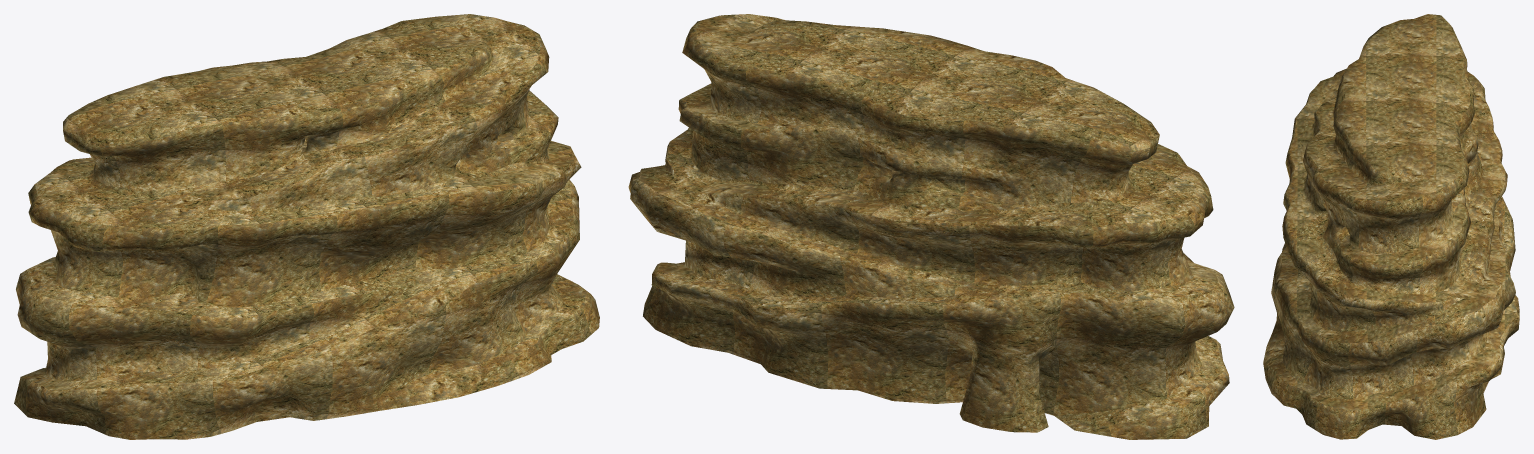
Rendered from Rock.FBX.
3 renders of one model, left to right at view 1: azimuth 30°, elevation 25°; view 2: azimuth 150°, elevation 25°; view 3: azimuth 270°, elevation 25°, orthographic. The views are drawn at different scales.
Parts seen in each view (by area): view 1: plato_05; view 2: plato_05; view 3: plato_05.
Part boxes in pixels (x1,y1,x2,y2): plato_05: (14, 14, 599, 439); plato_05: (628, 14, 1234, 439); plato_05: (1263, 14, 1519, 439).
Bounding box in the file's own units: 98.87 × 47.88 × 47.39.
Materials: 1 (1 with a texture image).
